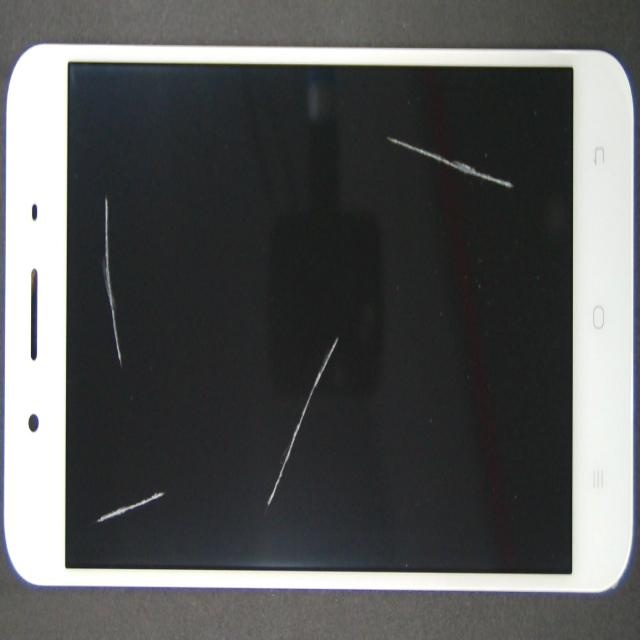scratch: (202, 69, 462, 571), (126, 223, 212, 640), (333, 129, 640, 238), (84, 284, 189, 458)
